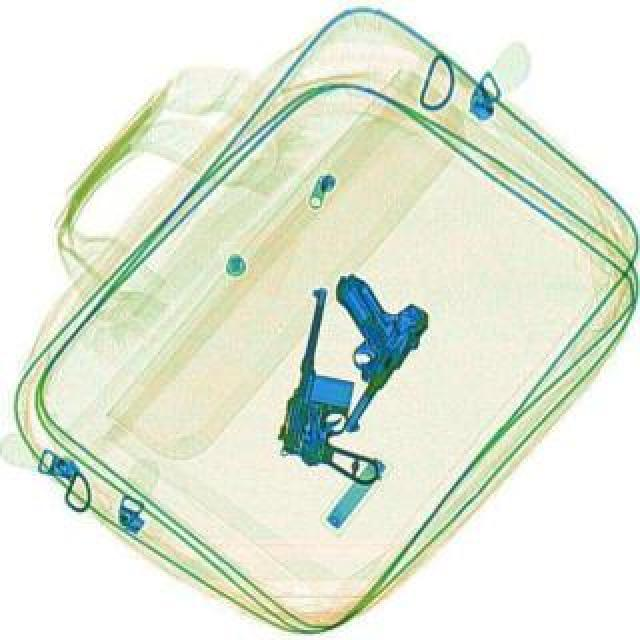gun: (270, 282, 416, 484), (266, 266, 436, 436)
